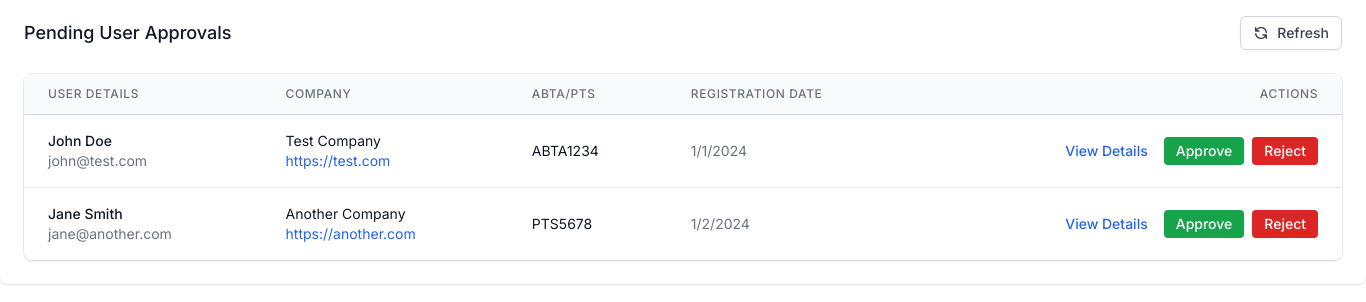
Test: ApprovalDashboard › approves user successfully
This screenshot has width=1366, height=302.
Expected: the text "John Doe" is shown, [48, 132, 112, 149]
Click the button "Approve" in the row of "John Doe" at (1204,151), box [1164, 137, 1244, 165]
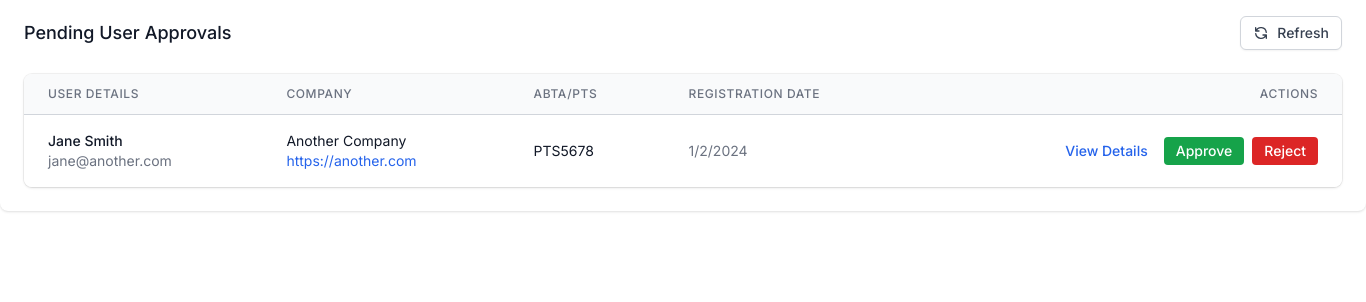
Result: the text "John Doe" is gone
